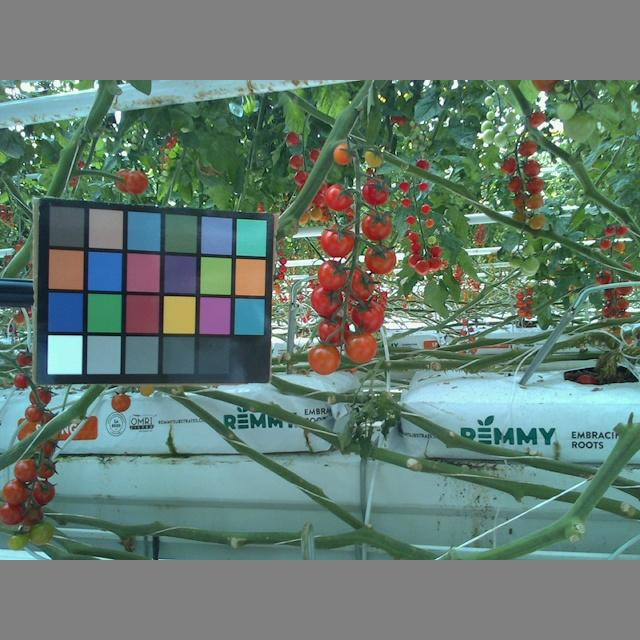pink: (306, 343, 340, 376), (341, 334, 377, 364), (28, 480, 57, 508), (1, 502, 28, 529), (121, 169, 149, 195), (3, 481, 30, 506), (13, 457, 38, 483), (108, 392, 132, 413), (333, 141, 354, 164), (363, 145, 383, 169)
red: (316, 313, 353, 350), (319, 222, 356, 257), (308, 284, 343, 317), (353, 302, 386, 335), (363, 243, 396, 274), (344, 268, 375, 301), (362, 211, 394, 241), (318, 260, 348, 290), (325, 184, 355, 213), (360, 178, 390, 206)
